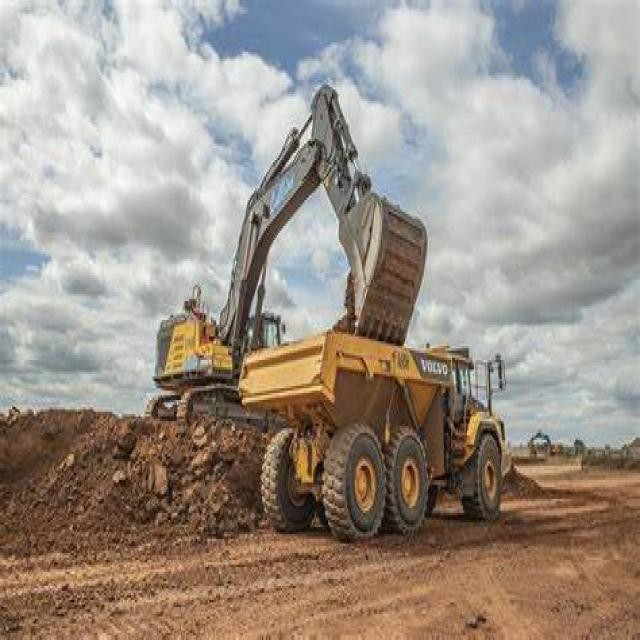dump_truck: (221, 301, 536, 558)
excavator: (134, 85, 430, 421)
